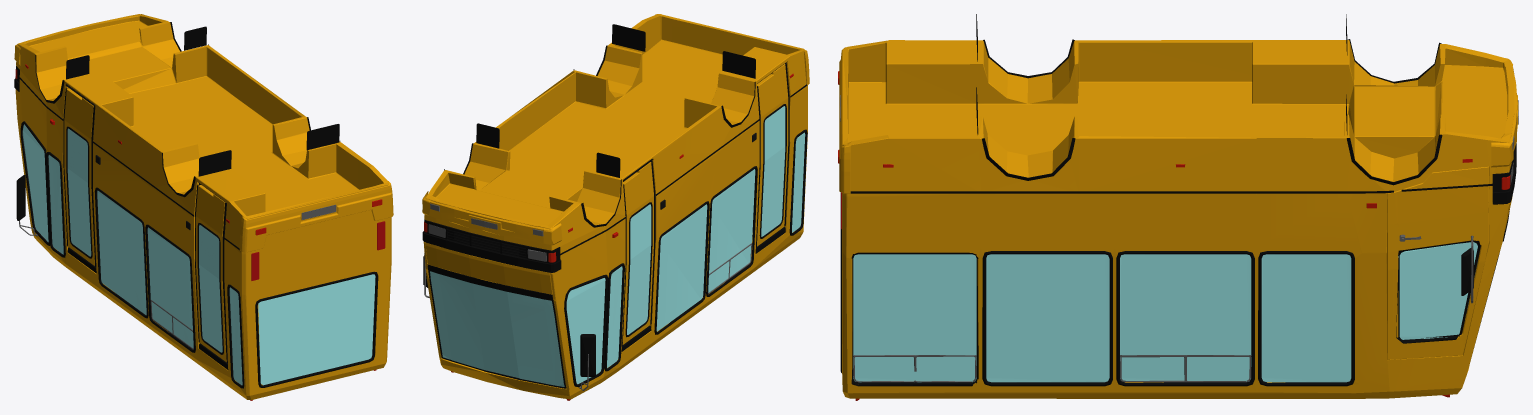
The model's file is Lowbus.fbx.
3 renders of one model, left to right at view 1: azimuth 30°, elevation 25°; view 2: azimuth 150°, elevation 25°; view 3: azimuth 270°, elevation 25°, orthographic. The views are drawn at different scales.
Parts seen in each view (by area): view 1: bodycolor, bus_2, Box047, Cylinder079, Cylinder076, Box037; view 2: bodycolor, bus_2, Box043, Cylinder079, Cylinder076, Box037; view 3: bodycolor, bus_2, Box047, Shape012, Shape013, Box043.
Boxes of the visible parts, x1,y1,x2,y2 form: bodycolor: [15, 14, 391, 399]; bus_2: [14, 14, 378, 388]; Box047: [239, 181, 393, 252]; Cylinder079: [198, 124, 339, 176]; Cylinder076: [66, 26, 206, 79]; Box037: [16, 175, 25, 220]; bodycolor: [423, 14, 807, 399]; bus_2: [422, 61, 807, 388]; Box043: [422, 219, 561, 272]; Cylinder079: [612, 24, 755, 78]; Cylinder076: [476, 123, 620, 177]; Box037: [580, 334, 595, 376]; bodycolor: [842, 40, 1514, 398]; bus_2: [840, 58, 1518, 386]; Box047: [839, 47, 850, 193]; Shape012: [1346, 39, 1442, 185]; Shape013: [982, 39, 1075, 180]; Box043: [1492, 143, 1516, 204].
Size of the model in its own units: 230 by 288 by 597.
